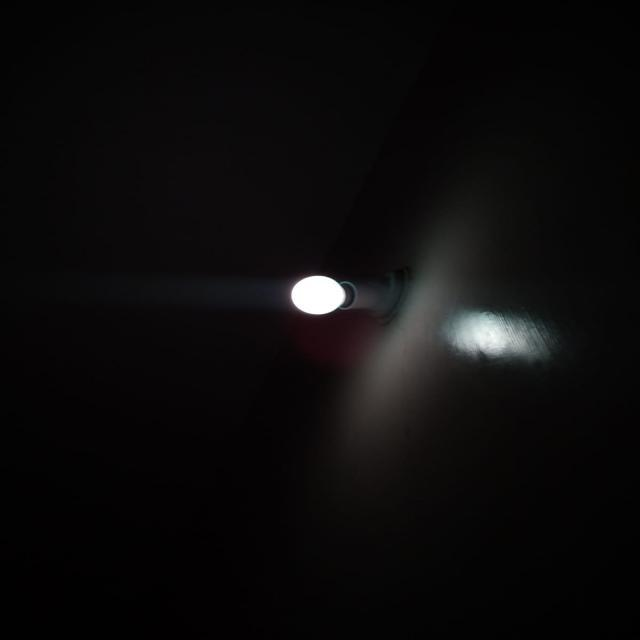bulb_on: (290, 275, 396, 320)
